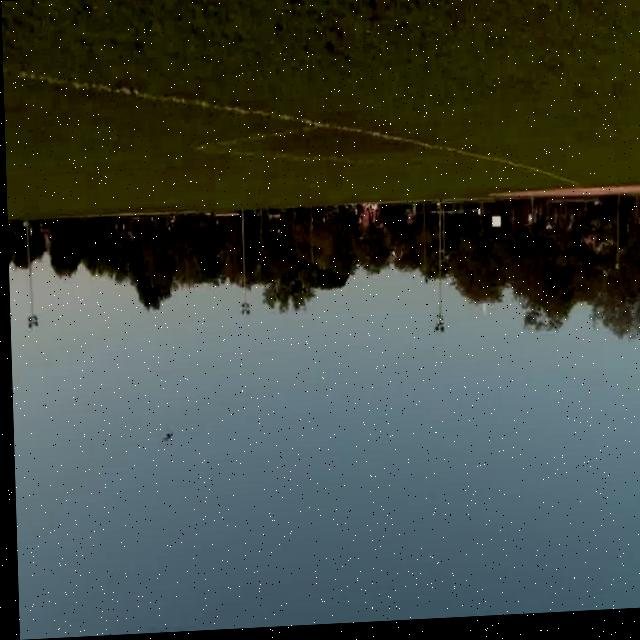drone: (156, 427, 177, 452)
